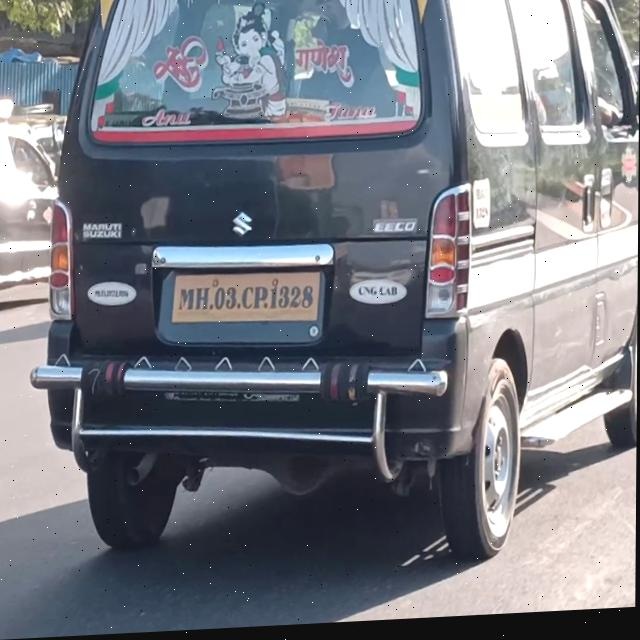plate: (169, 263, 328, 337)
